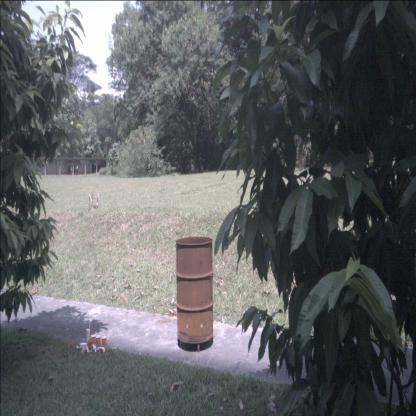human-pedestrian-adult: (76, 164, 79, 175), (70, 166, 72, 175), (74, 164, 75, 175)
